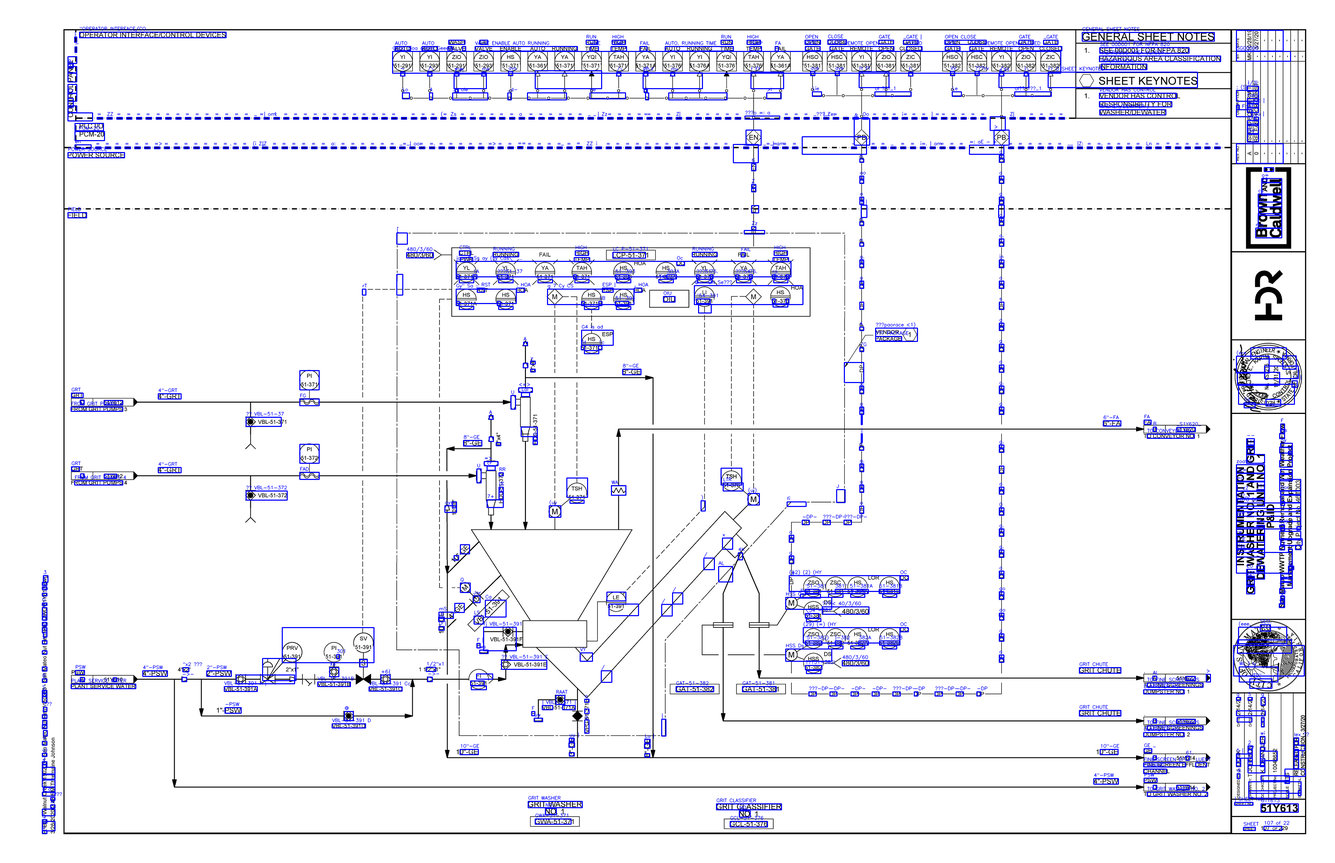Compressor: (288, 674, 297, 683), (425, 675, 434, 684), (487, 435, 495, 443), (521, 361, 529, 369), (443, 503, 450, 512), (180, 676, 188, 683)
Instrumento: (297, 368, 323, 409), (297, 442, 322, 482), (468, 667, 494, 691), (569, 261, 593, 283), (605, 591, 630, 612), (612, 261, 635, 283), (612, 288, 635, 310), (455, 288, 478, 310), (494, 288, 517, 310), (580, 332, 603, 354), (720, 470, 743, 492), (566, 482, 588, 504), (581, 288, 603, 310), (655, 261, 677, 283), (846, 576, 868, 598), (803, 652, 825, 674), (608, 51, 630, 73), (966, 50, 988, 72), (769, 286, 792, 307), (878, 576, 901, 597), (770, 262, 792, 283), (693, 286, 715, 307), (803, 600, 824, 622), (846, 628, 868, 649), (878, 628, 900, 649), (500, 50, 521, 72), (942, 50, 963, 72), (743, 51, 764, 72), (802, 51, 823, 72), (826, 51, 847, 72), (746, 493, 761, 506)
Misturador: (610, 483, 628, 497)
Motor: (546, 288, 564, 306), (745, 287, 762, 305), (784, 648, 798, 663), (547, 505, 562, 518), (785, 596, 797, 610)
Outro: (509, 386, 534, 442), (474, 459, 498, 516), (802, 576, 825, 597), (825, 627, 846, 649), (802, 628, 824, 649), (419, 50, 440, 72), (581, 50, 602, 72), (634, 51, 656, 72), (662, 51, 684, 72), (689, 51, 711, 72), (875, 51, 897, 72), (900, 50, 921, 72), (1015, 51, 1037, 72), (392, 51, 413, 72), (527, 51, 548, 72), (554, 51, 575, 72), (716, 51, 737, 72), (770, 51, 791, 72), (851, 51, 872, 72), (991, 51, 1012, 72), (1040, 51, 1061, 72), (825, 577, 845, 598), (747, 620, 771, 629), (712, 621, 736, 629)
SistemadePotência: (455, 261, 479, 283), (494, 261, 517, 283), (534, 262, 556, 283), (694, 262, 715, 284), (733, 261, 754, 282)
Válvula: (458, 581, 485, 607), (354, 657, 373, 686), (258, 660, 277, 687), (446, 50, 468, 72), (473, 51, 494, 72), (301, 673, 317, 687), (243, 415, 258, 429), (243, 488, 258, 502), (378, 672, 393, 686), (501, 625, 516, 639), (326, 665, 342, 678), (498, 658, 514, 671), (342, 709, 356, 723), (571, 709, 584, 724), (234, 673, 248, 686), (553, 693, 567, 706)
